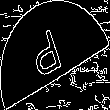P_SE: (35, 24, 75, 86)
